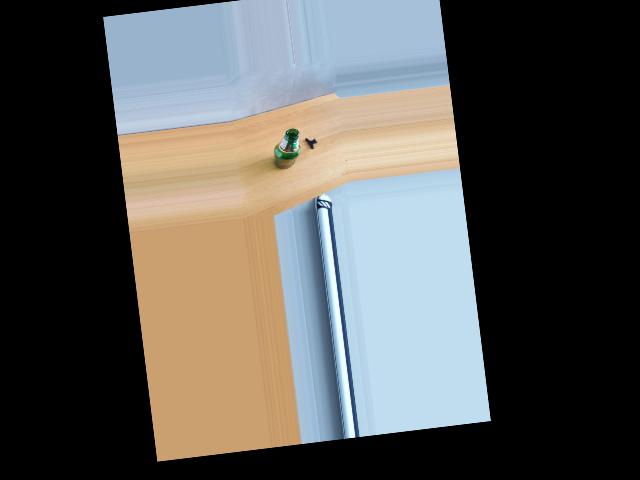beer: (270, 128, 303, 170)
